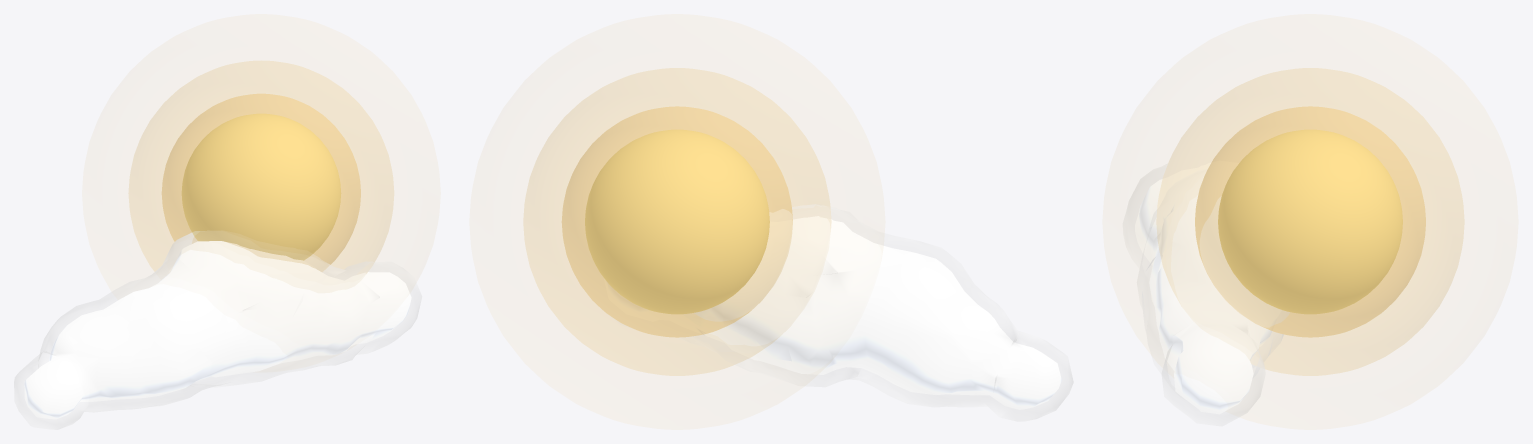
File: fx3d-w-partly.glb
3 renders of one model, left to right at view 1: azimuth 30°, elevation 25°; view 2: azimuth 150°, elevation 25°; view 3: azimuth 270°, elevation 25°, orthographic. The views are drawn at different scales.
Parts seen in each view (by area): view 1: cloudSkin, cloud, halo15, sun, halo20; view 2: cloudSkin, halo15, cloud, sun, halo20; view 3: halo15, halo20, sun, cloudSkin, cloud.
Part boxes in pixels (x1,y1,x2,y2): cloudSkin: (14,231,421,429); cloud: (24,241,411,419); halo15: (161,93,360,271); sun: (181,113,341,260); halo20: (128,61,393,274); cloudSkin: (614,204,1073,421); halo15: (561,106,792,337); cloud: (604,216,1061,409); sun: (585,129,769,314); halo20: (523,68,830,375); halo15: (1195,106,1425,337); halo20: (1156,68,1464,375); sun: (1218,129,1402,314); cloudSkin: (1123,163,1283,426); cloud: (1135,161,1281,414).
Size of the model in its own units: 0.7742 by 0.54 by 0.54.
